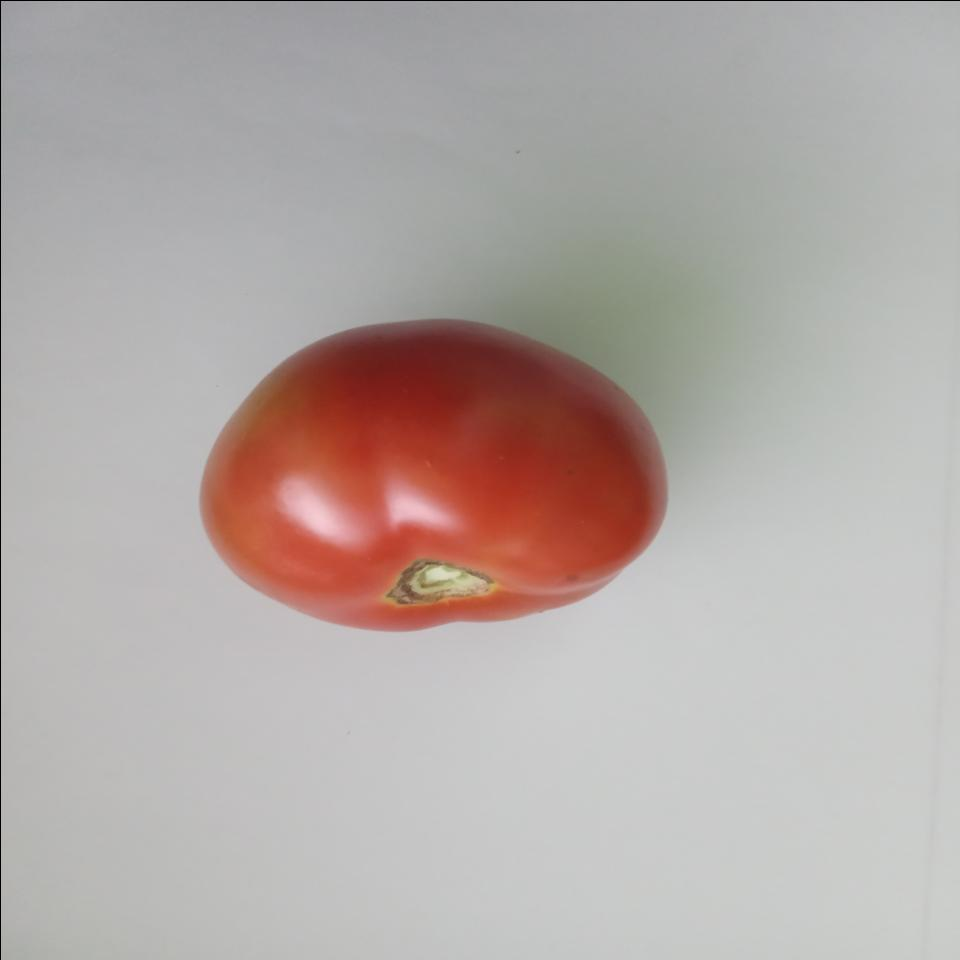Healthy: (200, 308, 676, 638)
